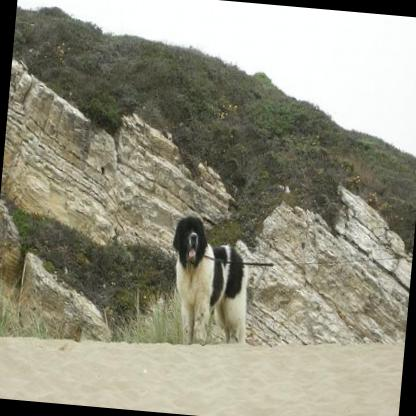Newfoundland: (160, 209, 260, 350)
